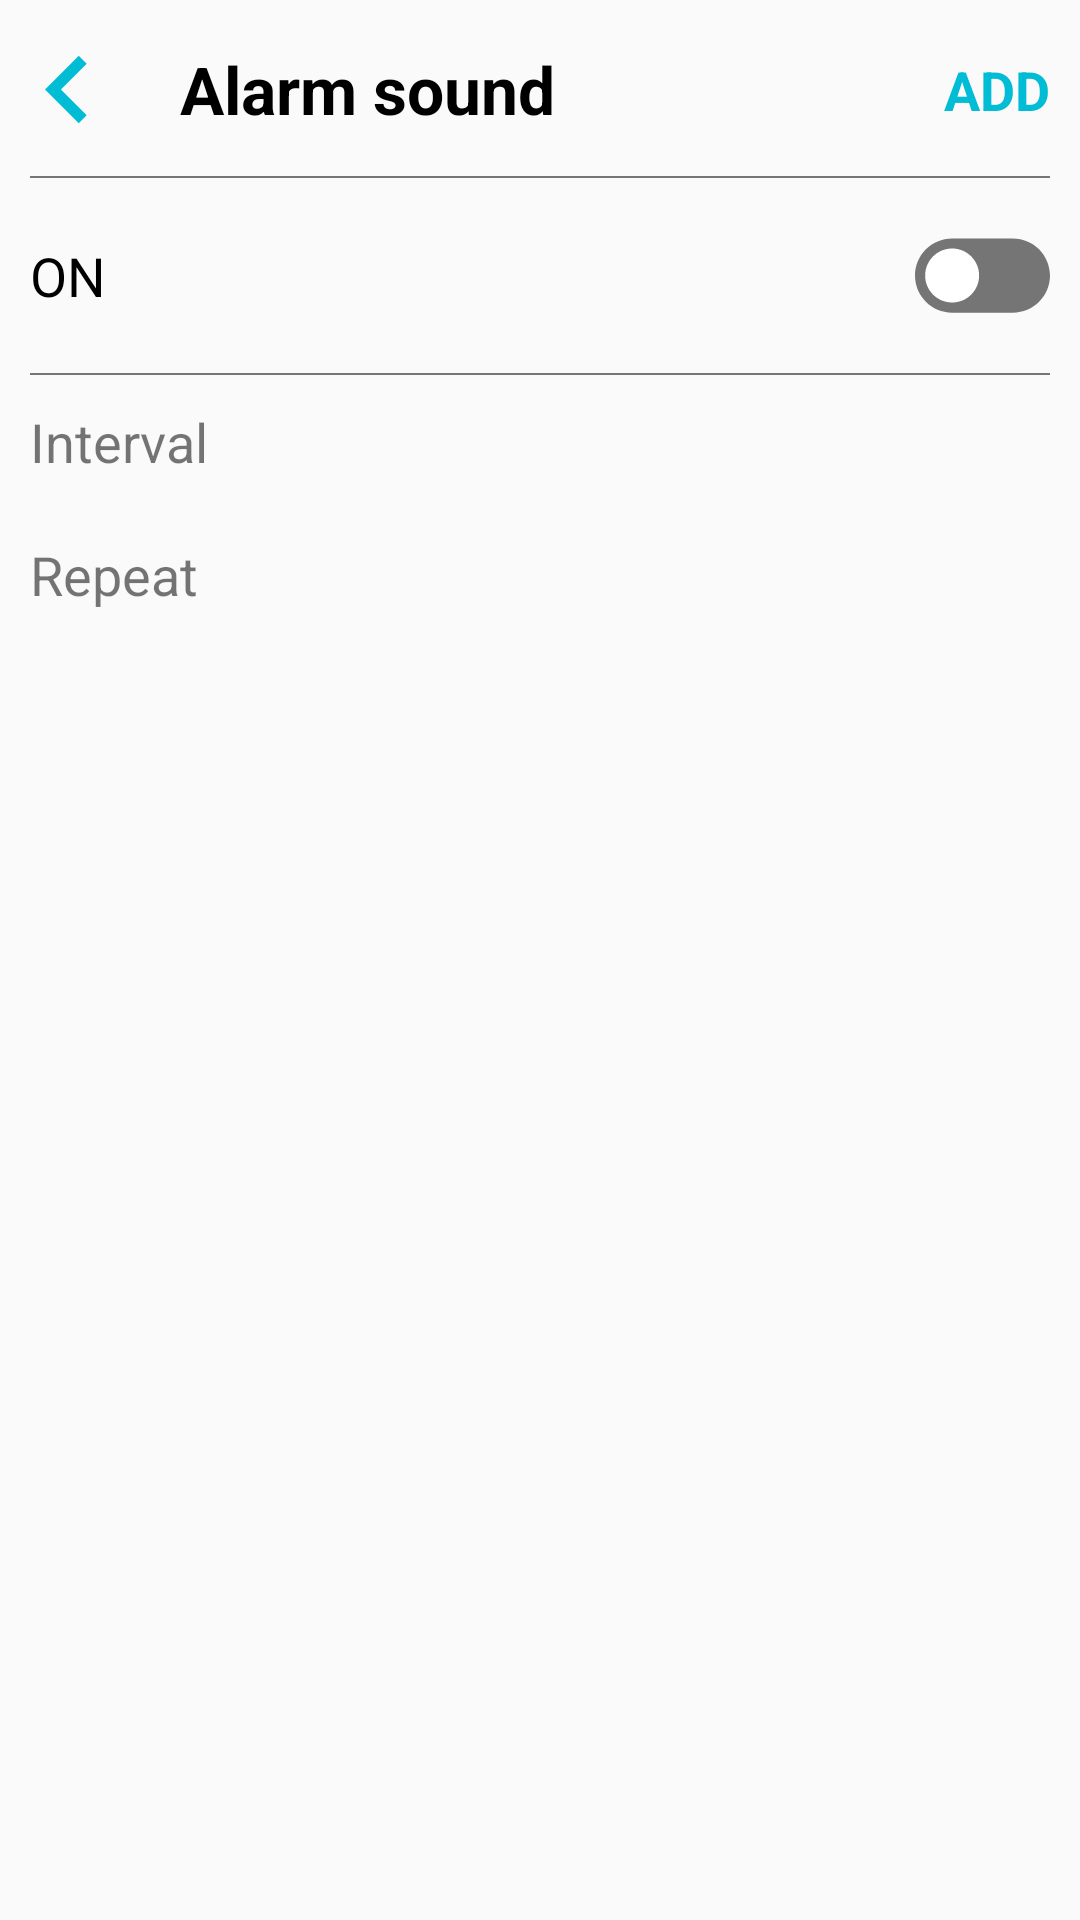

Icons on this 1080*1920 Android screen, each with its box as detection(x1, y1, x2, y2):
back: detection(45, 56, 87, 123)
